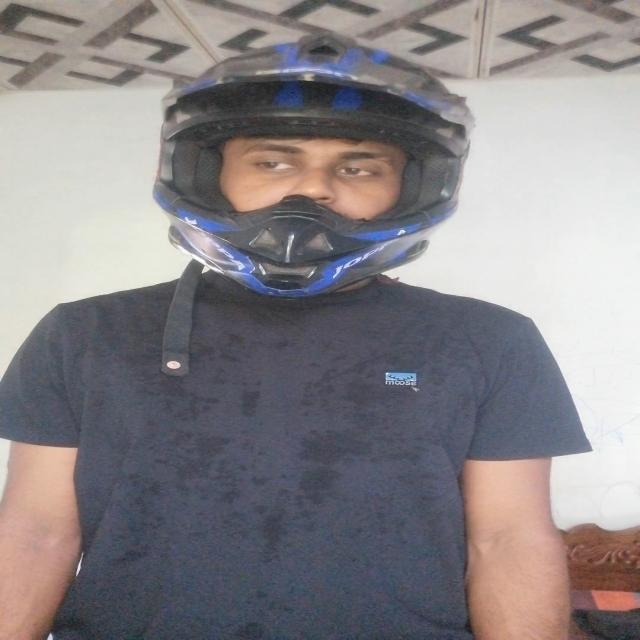Helmet_Wearer: (105, 46, 495, 296)
Person: (16, 36, 560, 584)
